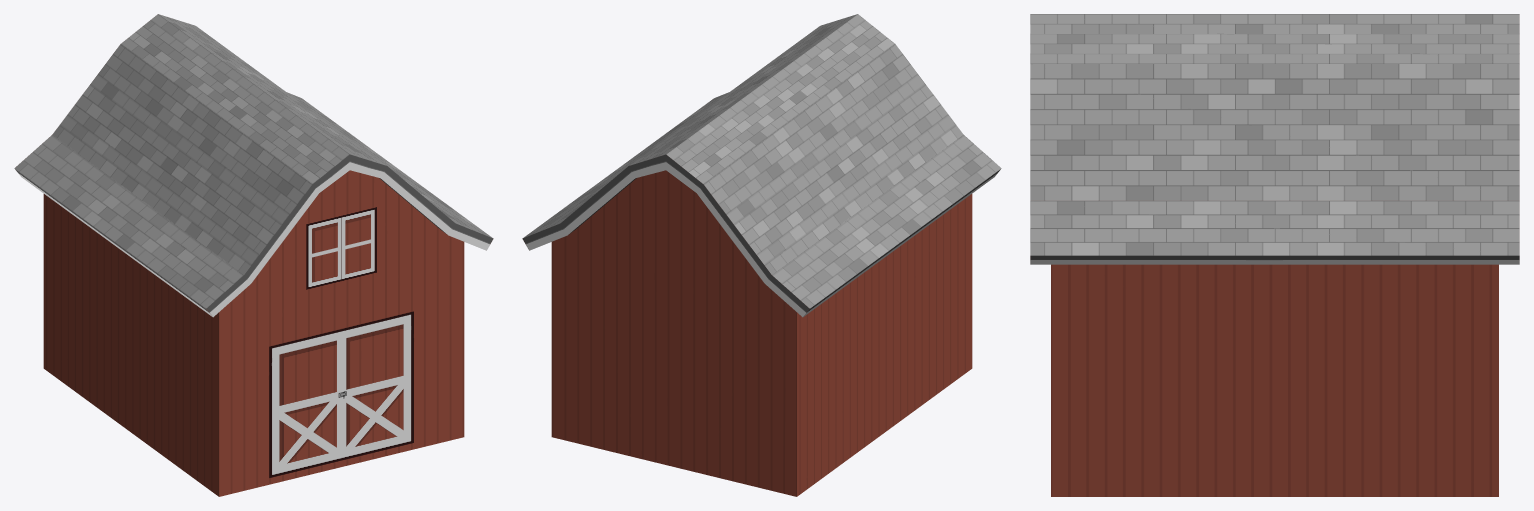
The model's file is barn.fbx.
The picture shows the model from 3 angles, left to right: view 1: azimuth 30°, elevation 25°; view 2: azimuth 150°, elevation 25°; view 3: azimuth 270°, elevation 25°; orthographic projection. The views are drawn at different scales.
Visible parts, largest first — view 1: barn; view 2: barn; view 3: barn.
Part boxes in pixels (x1,y1,x2,y2): barn: (14,14,493,496); barn: (522,14,1001,496); barn: (1030,14,1519,496).
Size of the model in its own units: 284 by 301 by 328.
Materials: 1 (1 with a texture image).
